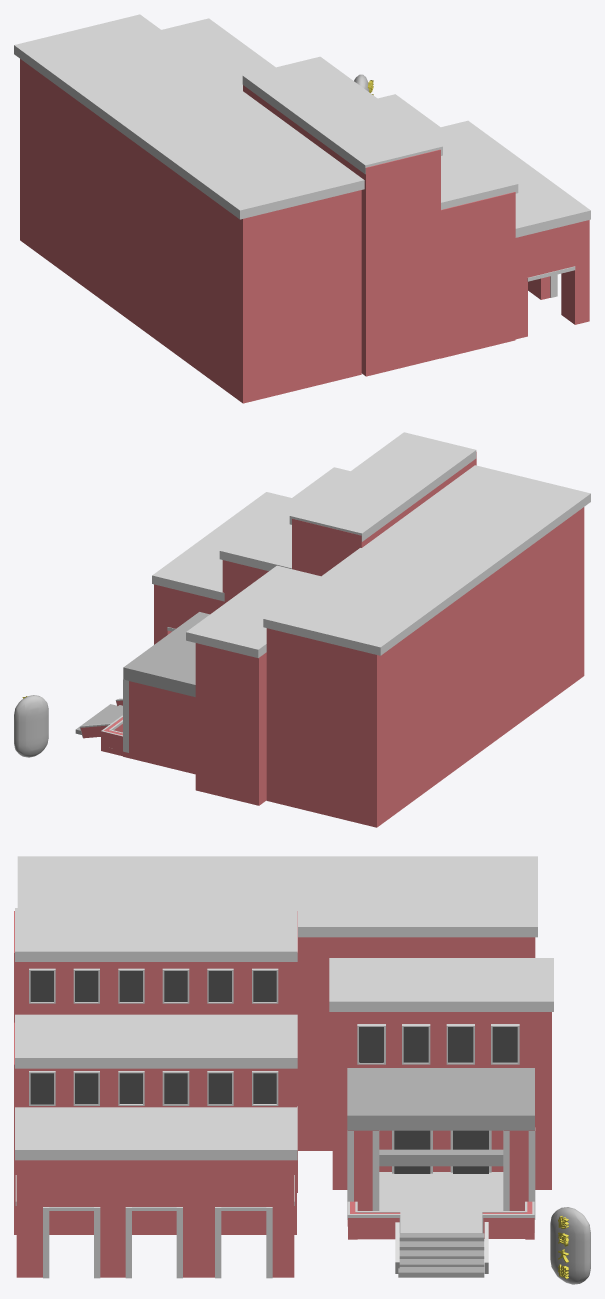
File: 外文系.fbx
3 views of the same model, one above another, from view 1: azimuth 30°, elevation 25°; view 2: azimuth 150°, elevation 25°; view 3: azimuth 270°, elevation 25° (orthographic). The views are drawn at different scales.
Parts seen in each view (by area): view 1: 立方體.017, 立方體.057, 立方體.016, 立方體.015, 立方體.035, 立方體.014, 立方體.033, 立方體.034, 立方體.058; view 2: 立方體.017, 立方體.057, 立方體.013, 立方體.035, 立方體.058, 立方體.001, 立方體.033, 立方體.034, 立方體.016, 立方體.003, 立方體.014, Mball (+2 smaller); view 3: 立方體.057, 立方體.014, 立方體.034, 立方體.033, 立方體.035, 立方體.013, 立方體.058, 立方體.003, 立方體.017, 立方體.016, 立方體.015, 立方體.036 (+35 smaller).
Boxes of the visible parts, x1,y1,x2,y2 form: 立方體.017: (20,59,361,403); 立方體.057: (14,14,364,219); 立方體.016: (243,85,440,376); 立方體.015: (440,192,515,358); 立方體.035: (242,56,442,174); 立方體.014: (515,220,589,339); 立方體.033: (441,120,590,237); 立方體.034: (378,94,518,209); 立方體.058: (162,18,275,89); 立方體.017: (266,507,584,827); 立方體.057: (263,465,590,655); 立方體.013: (195,643,266,805); 立方體.035: (289,432,476,541); 立方體.058: (186,565,320,658); 立方體.001: (123,681,195,774); 立方體.033: (152,492,291,601); 立方體.034: (219,467,350,571); 立方體.016: (292,452,476,576); 立方體.003: (123,612,209,696); 立方體.014: (154,584,222,644); Mball: (14,695,48,757); 立方體.057: (17,856,537,937); 立方體.014: (16,1160,294,1277); 立方體.034: (15,1014,297,1068); 立方體.033: (15,1106,297,1160); 立方體.035: (15,908,297,961); 立方體.013: (332,1012,551,1189); 立方體.058: (329,958,553,1011); 立方體.003: (347,1068,534,1130); 立方體.017: (298,937,535,1150); 立方體.016: (14,911,297,1192); 立方體.015: (14,1022,296,1234); 立方體.036: (379,1172,534,1232).
Size of the model in its own units: 2223 by 1209 by 2590.
